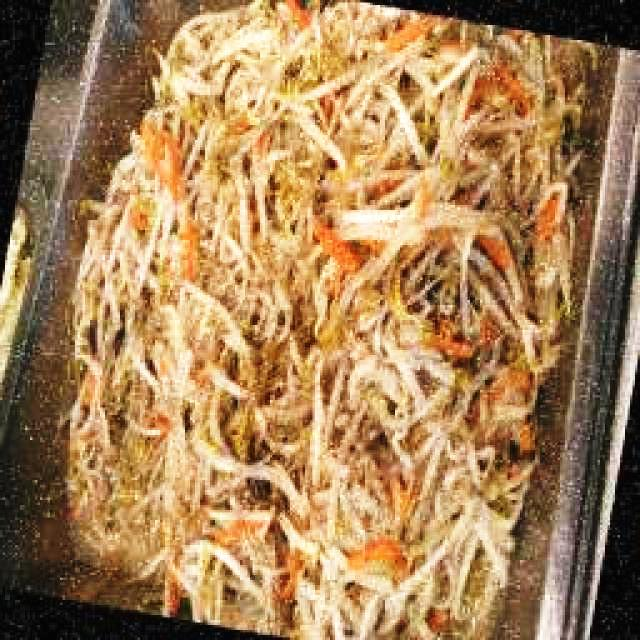mung_bean_sprouts: (74, 9, 575, 640)
